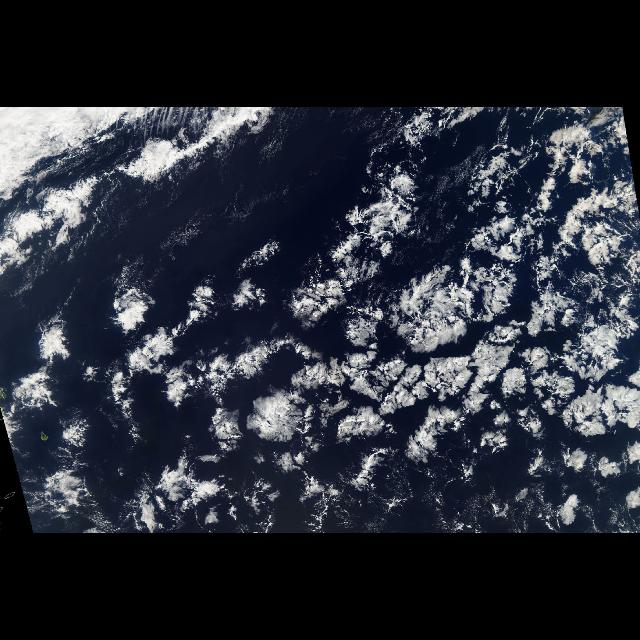Flower: (0, 111, 638, 533)
